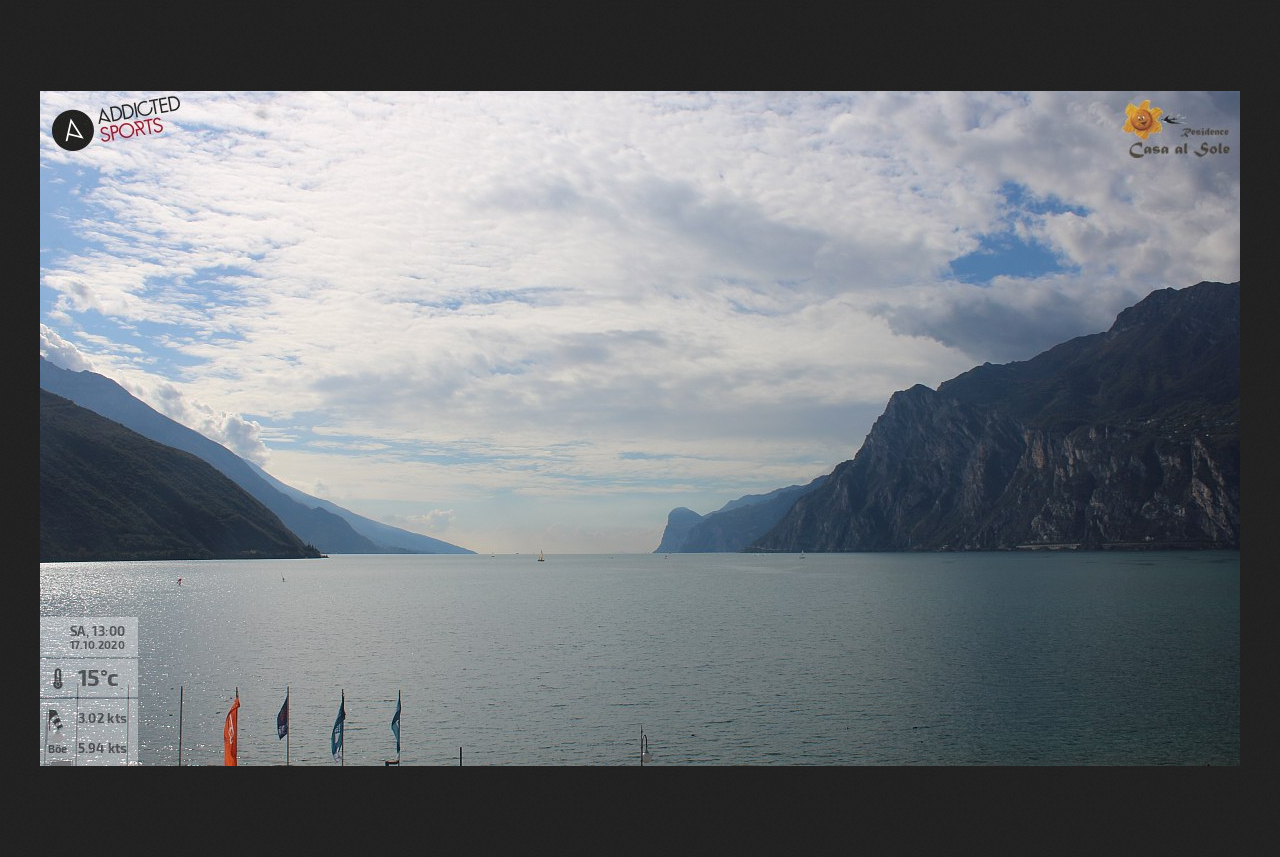no: (268, 698, 299, 737)
